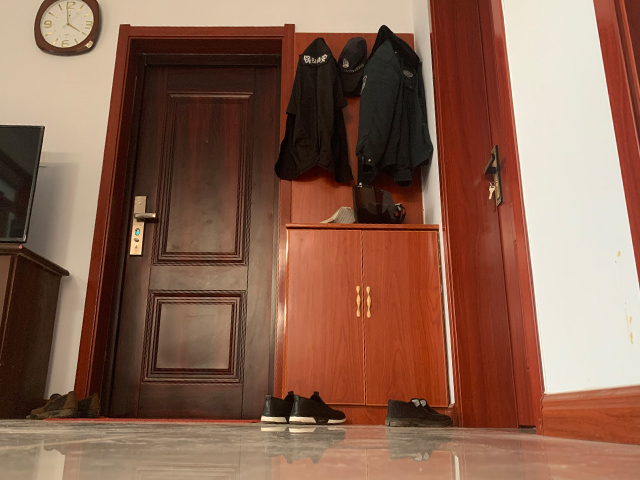cabinet: (282, 222, 452, 426)
carpet: (44, 414, 261, 424)
